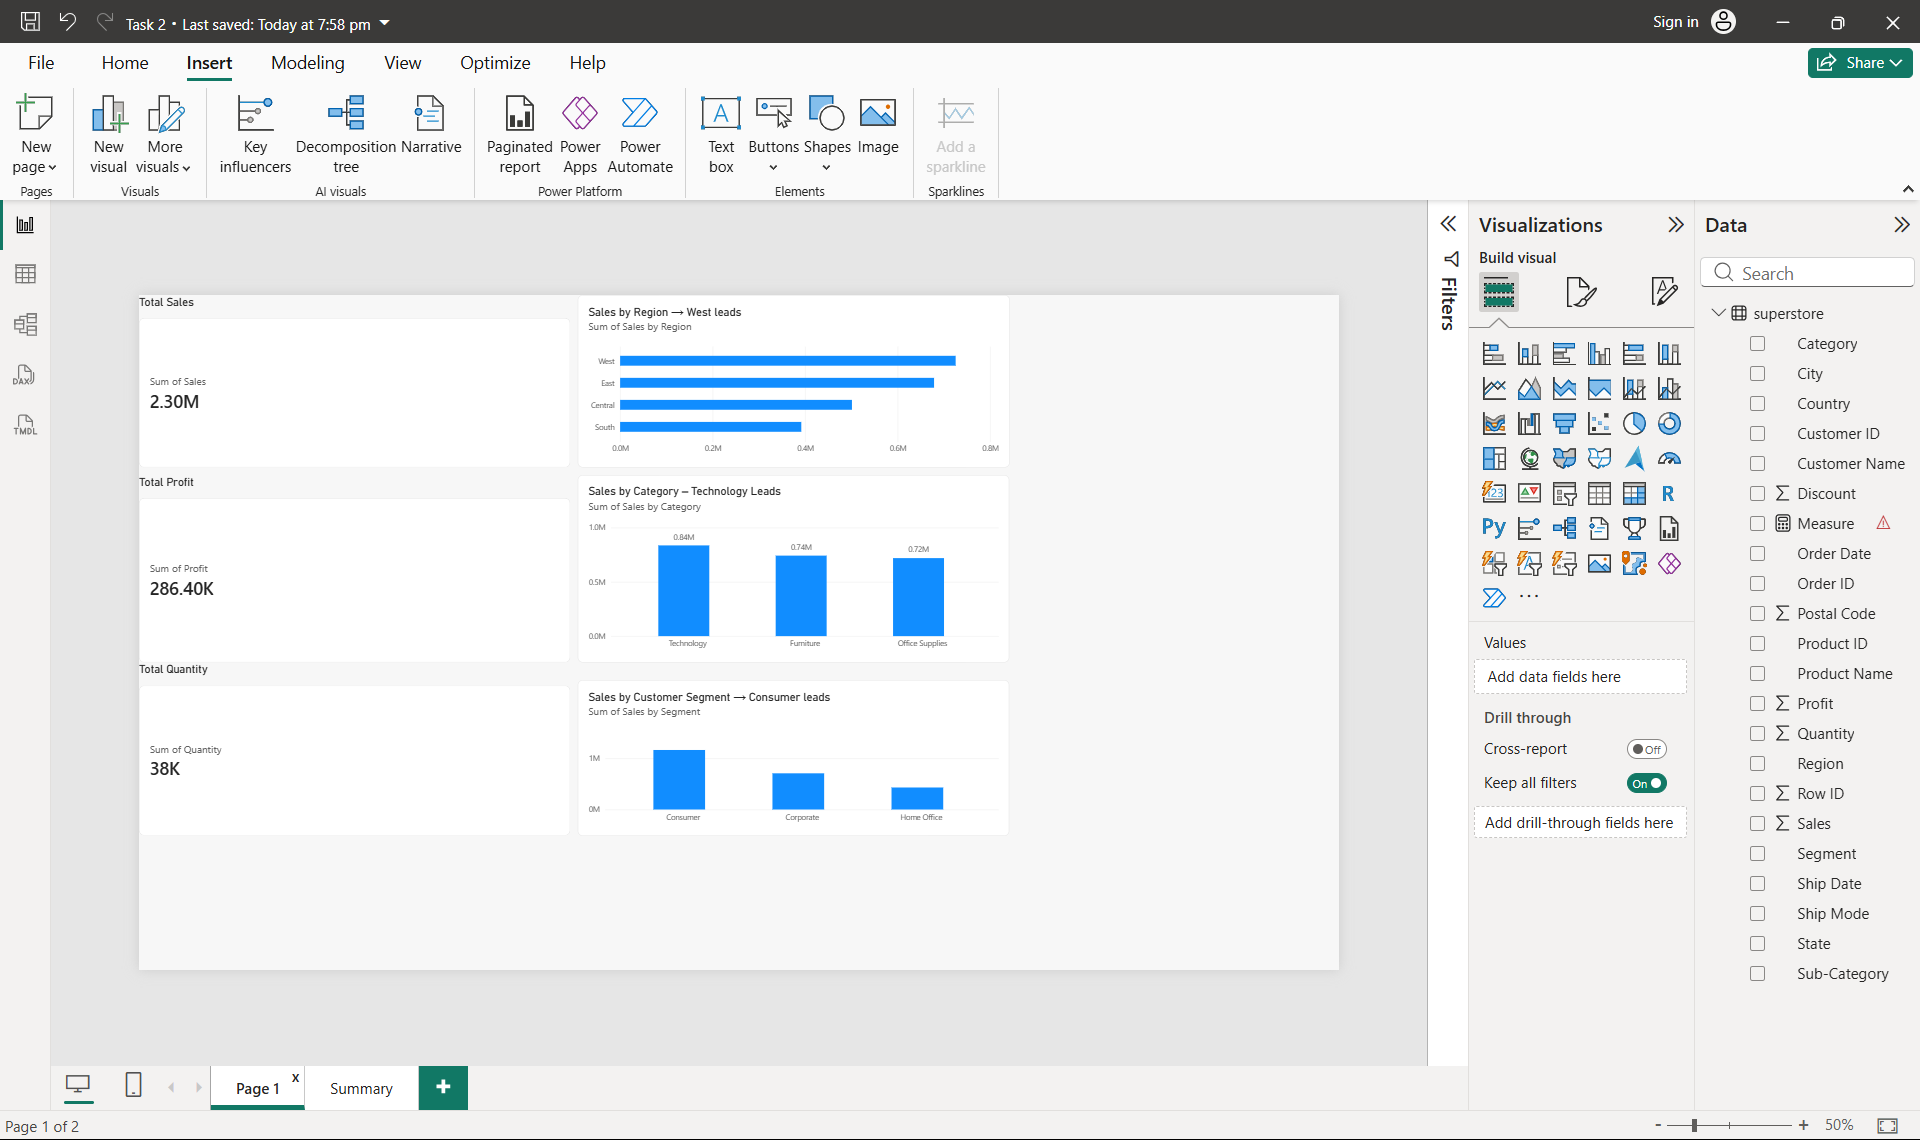

What the dashboard file says about the page in this screenshot:
{"tool":"powerbi","page":{"name":"Page 1","canvas":[1920,1080],"ordinal":0},"visuals":[{"type":"textbox","box":[150,416,300,300],"z":1000},{"type":"cardVisual","title":"Total Sales","fields":{"Data":["Sum(superstore.Sales)"]},"box":[0,0,690,276],"z":3000},{"type":"cardVisual","title":"Total Profit","fields":{"Data":["Sum(superstore.Profit)"]},"box":[0,287.8,690.7,300],"z":3001},{"type":"cardVisual","title":"Total Quantity","fields":{"Data":["Sum(superstore.Quantity)"]},"box":[0,587.8,690.7,277.3],"z":3002},{"type":"clusteredColumnChart","title":"Sales by Category – Technology Leads","fields":{"Category":["superstore.Category"],"Y":["Sum(superstore.Sales)"]},"box":[701.2,287.8,690.7,300],"z":3003},{"type":"clusteredBarChart","title":"Sales by Region → West leads","fields":{"Category":["superstore.Region"],"Y":["Sum(superstore.Sales)"]},"box":[701,0,691,276],"z":3004},{"type":"clusteredColumnChart","title":"Sales by Customer Segment → Consumer leads","fields":{"Category":["superstore.Segment"],"Y":["Sum(superstore.Sales)"]},"box":[701.2,615.7,690.7,249.4],"z":3005}]}

Visuals, with their boxes on the page's 1920x1080 design canvas (x1, y1, x2, y2). These are canvas units, not pixel positions in the 1920x1140 screenshot, which may show the page scaled, cropped or inside an application window:
textbox: select_region(150, 416, 450, 716)
"Total Sales" cardVisual: select_region(0, 0, 690, 276)
"Total Profit" cardVisual: select_region(0, 288, 691, 588)
"Total Quantity" cardVisual: select_region(0, 588, 691, 865)
"Sales by Category – Technology Leads" clusteredColumnChart: select_region(701, 288, 1392, 588)
"Sales by Region → West leads" clusteredBarChart: select_region(701, 0, 1392, 276)
"Sales by Customer Segment → Consumer leads" clusteredColumnChart: select_region(701, 616, 1392, 865)
